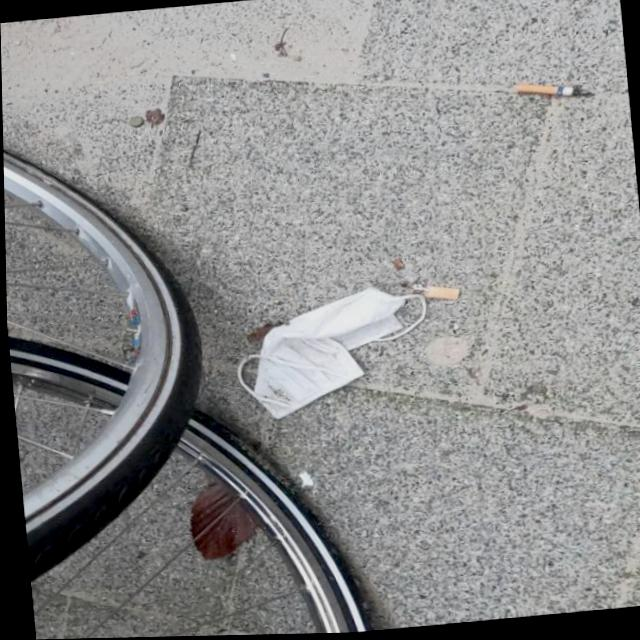Mask: (224, 280, 436, 424)
